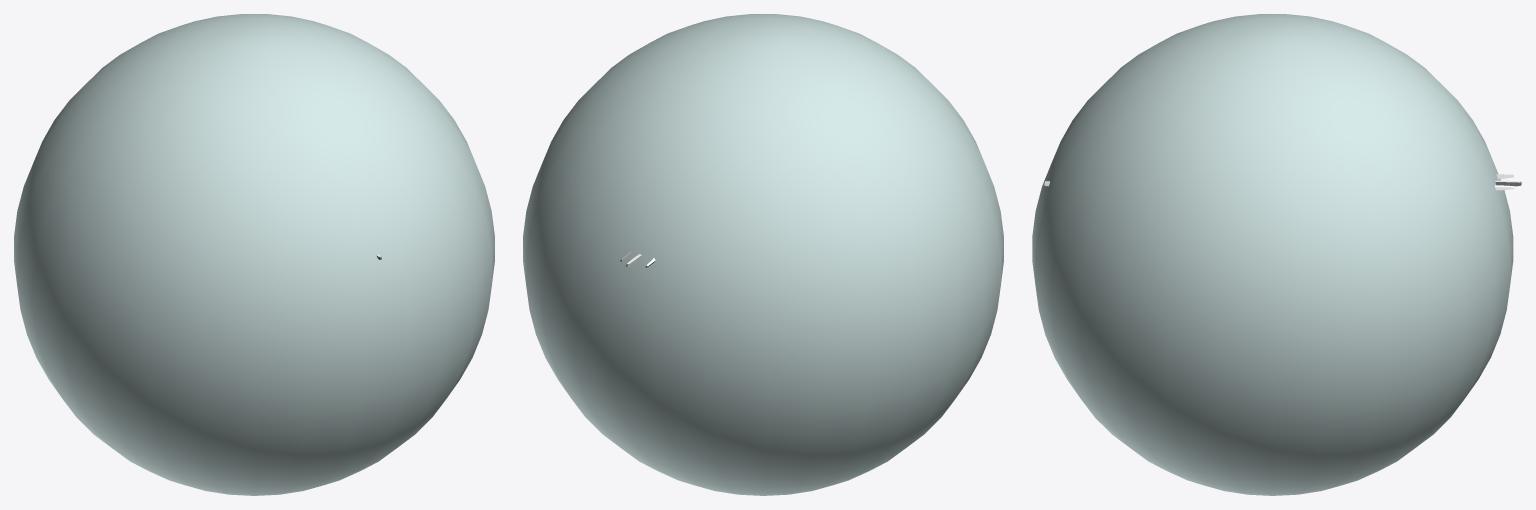
File: sphere_alienTEST.fbx
The picture shows the model from 3 angles, left to right: view 1: azimuth 30°, elevation 25°; view 2: azimuth 150°, elevation 25°; view 3: azimuth 270°, elevation 25°; orthographic projection.
Parts seen in each view (by area): view 1: pSphere3; view 2: pSphere3; view 3: pSphere3.
Boxes of the visible parts, x1=… form: pSphere3: x1=14, y1=14, x2=494, y2=495; pSphere3: x1=523, y1=14, x2=1003, y2=495; pSphere3: x1=1032, y1=14, x2=1513, y2=495.
Bounding box in the file's own units: 4.93 × 4.95 × 5.02.
3 materials, 1 textured.
